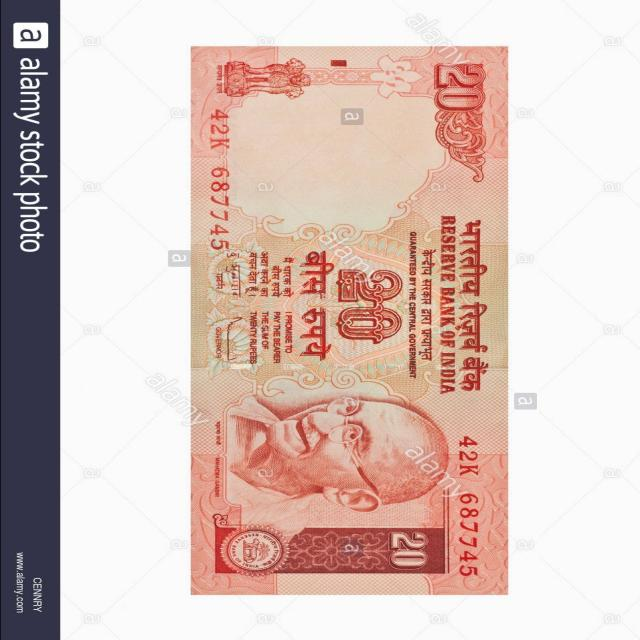20IndianRupees: (189, 48, 508, 596)
